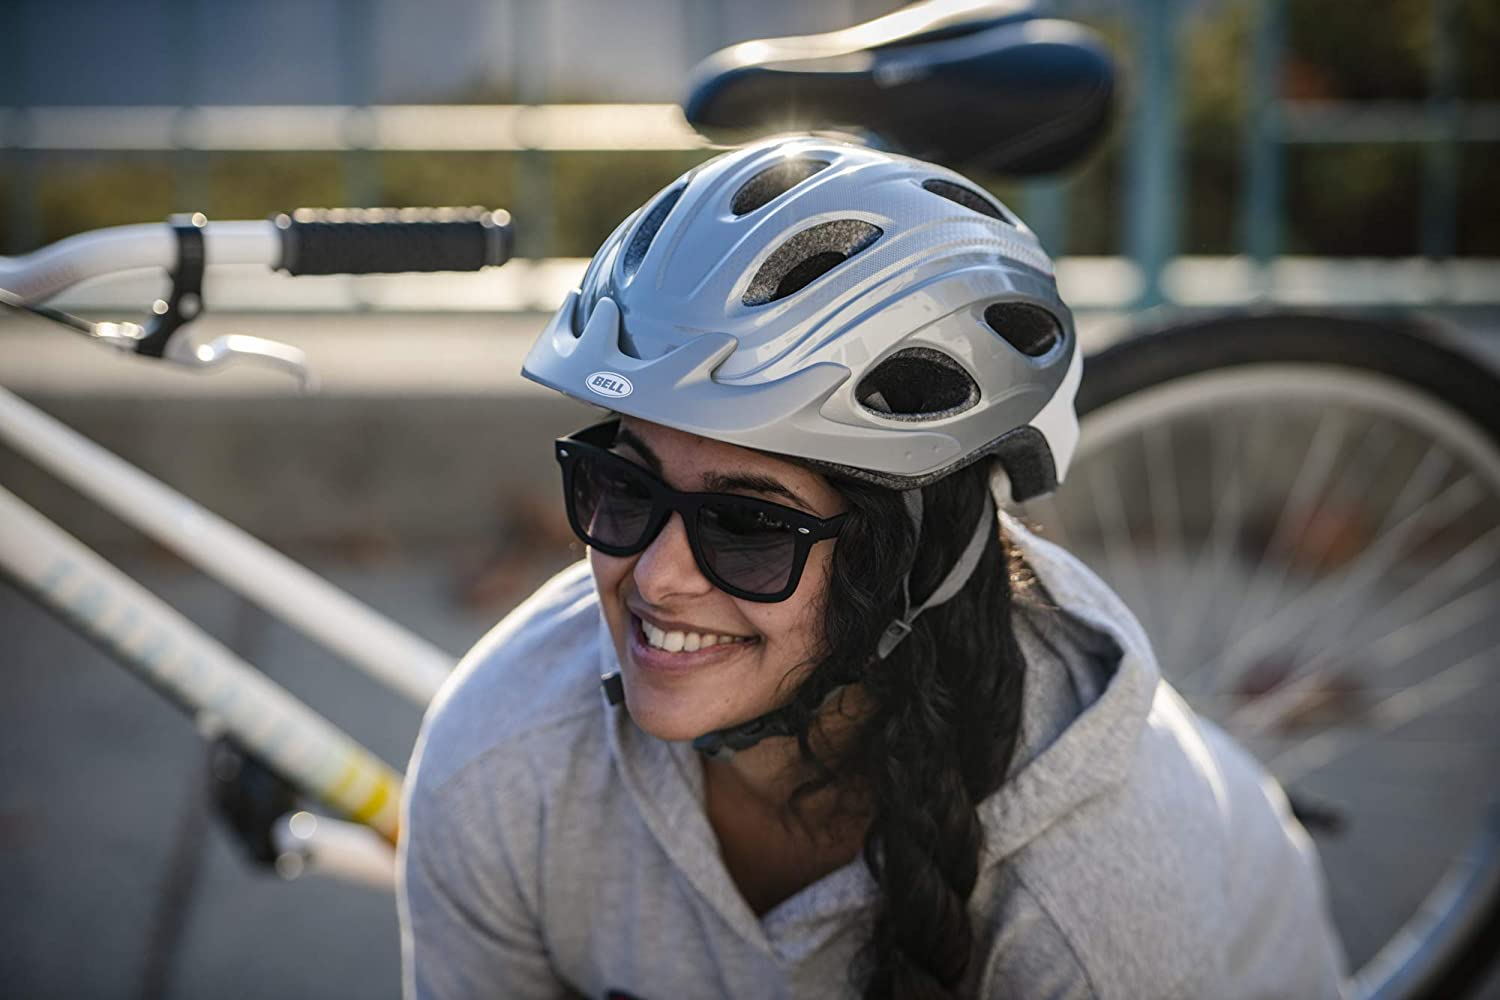helmet: (521, 136, 1081, 741)
